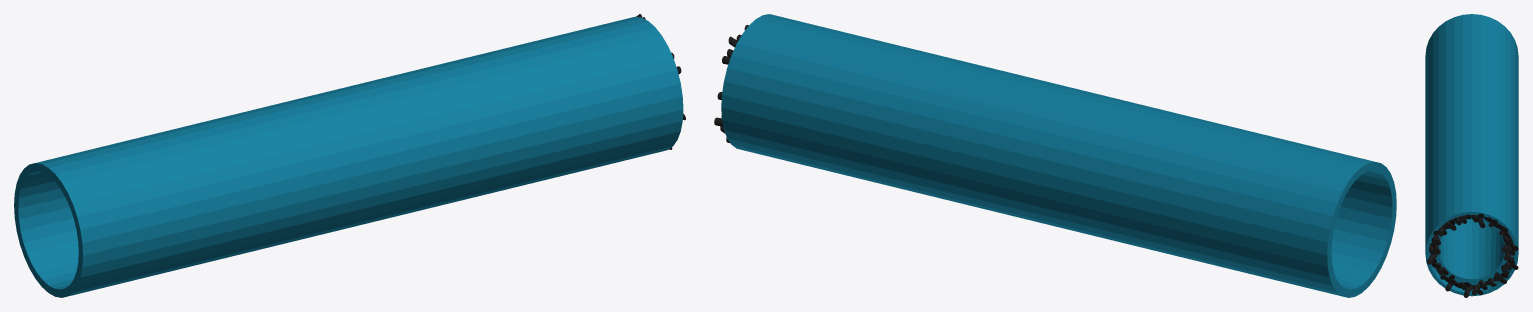
File: bluetube.fbx
The picture shows the model from 3 angles, left to right: view 1: azimuth 30°, elevation 25°; view 2: azimuth 150°, elevation 25°; view 3: azimuth 270°, elevation 25°; orthographic projection. The views are drawn at different scales.
Parts seen in each view (by area): view 1: Cylinder; view 2: Cylinder; view 3: Cylinder.
Boxes of the visible parts, x1,y1,x2,y2 form: Cylinder: (14, 16, 683, 297); Cylinder: (721, 14, 1396, 297); Cylinder: (1425, 14, 1518, 296).
Bounding box in the file's own units: 896 × 175 × 174.
